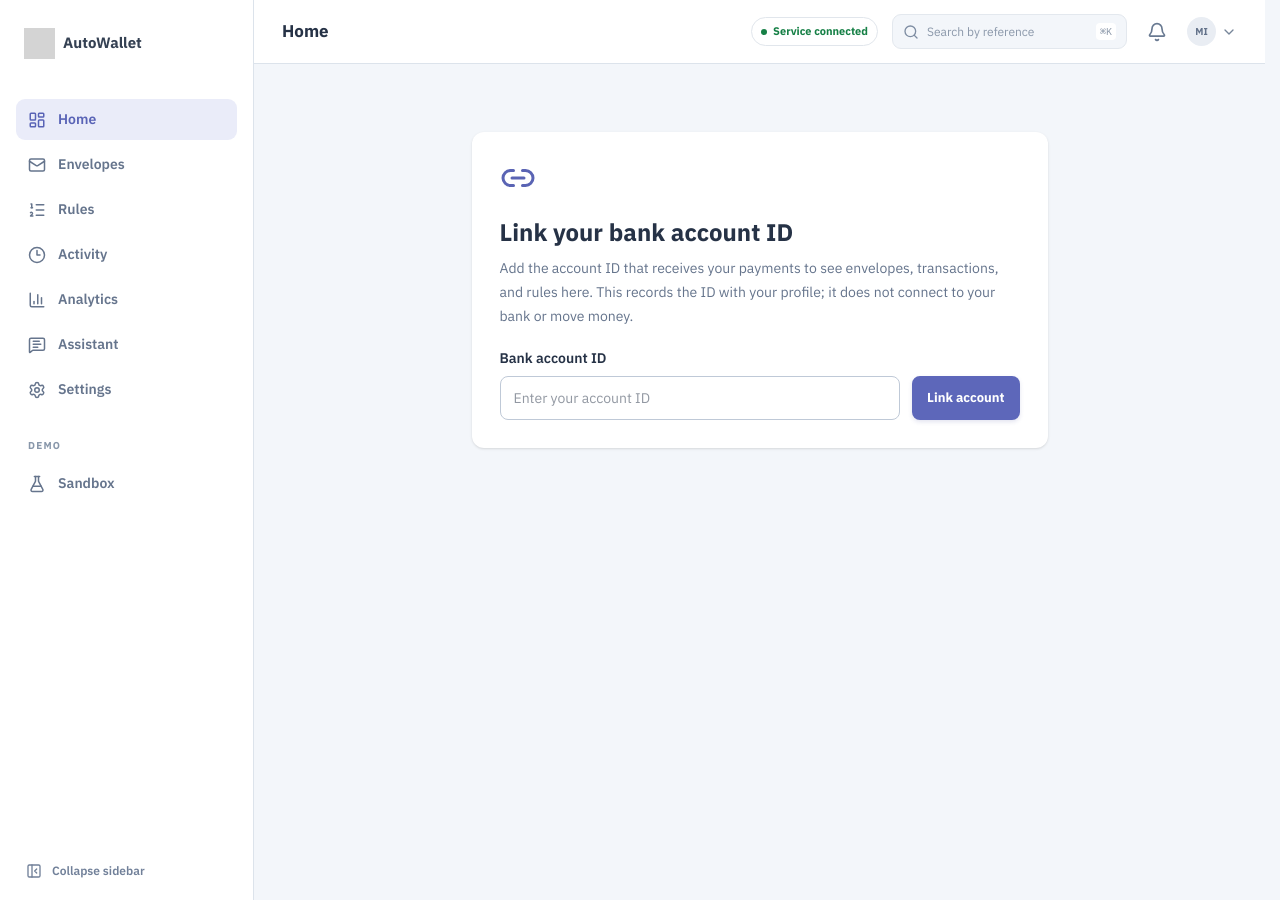
Scenario: DashboardPage › lets an unlinked account link an ID before loading the dashboard data
The image size is (1280, 900).
Check: the heading "Link your bank account ID" is shown, box left=500, top=216, right=793, bottom=248
Type "1234567890123" into the field labelled "Bank account ID" at (700, 398), box left=500, top=376, right=900, bottom=420
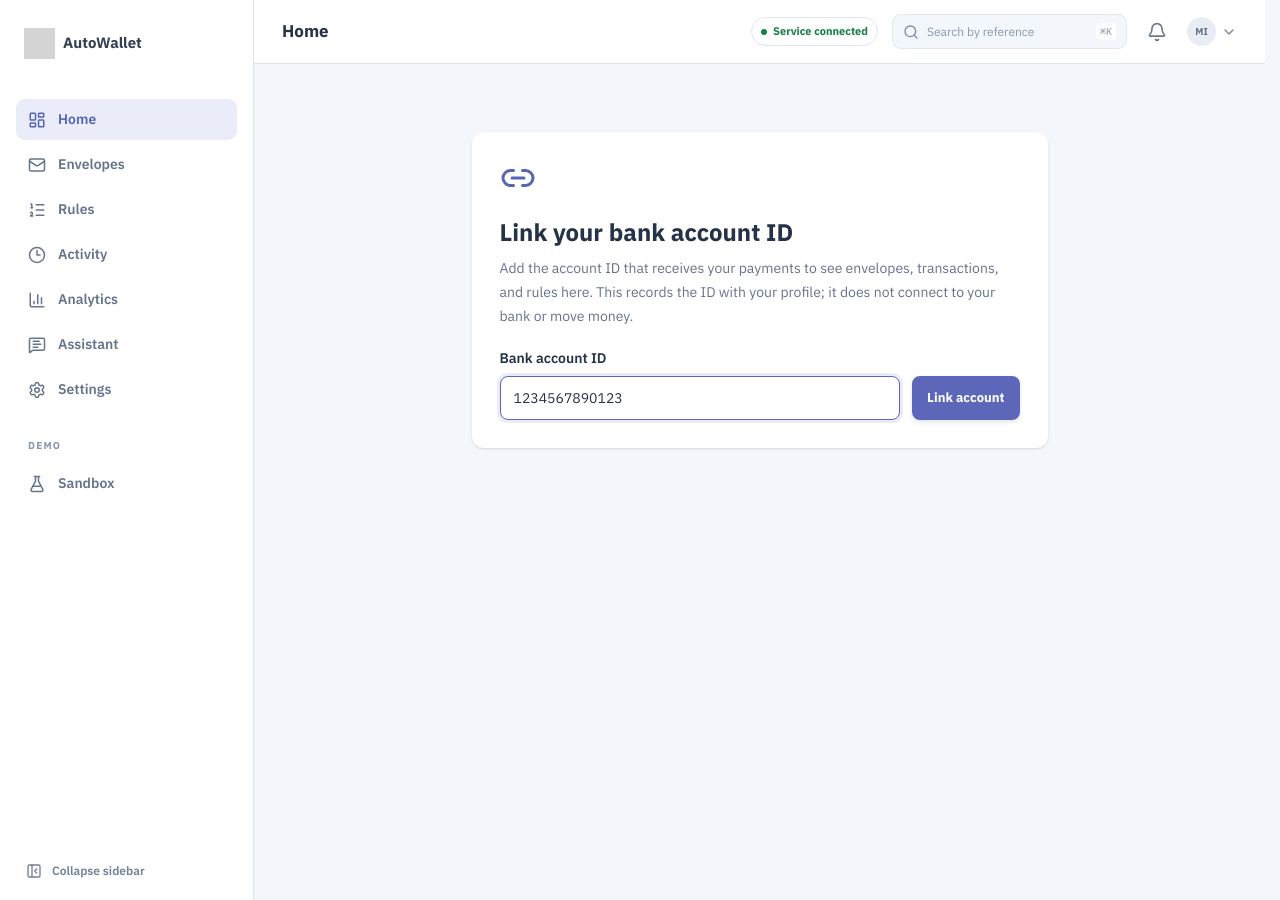
Click the button "Link account" at (966, 398), box left=912, top=376, right=1020, bottom=420
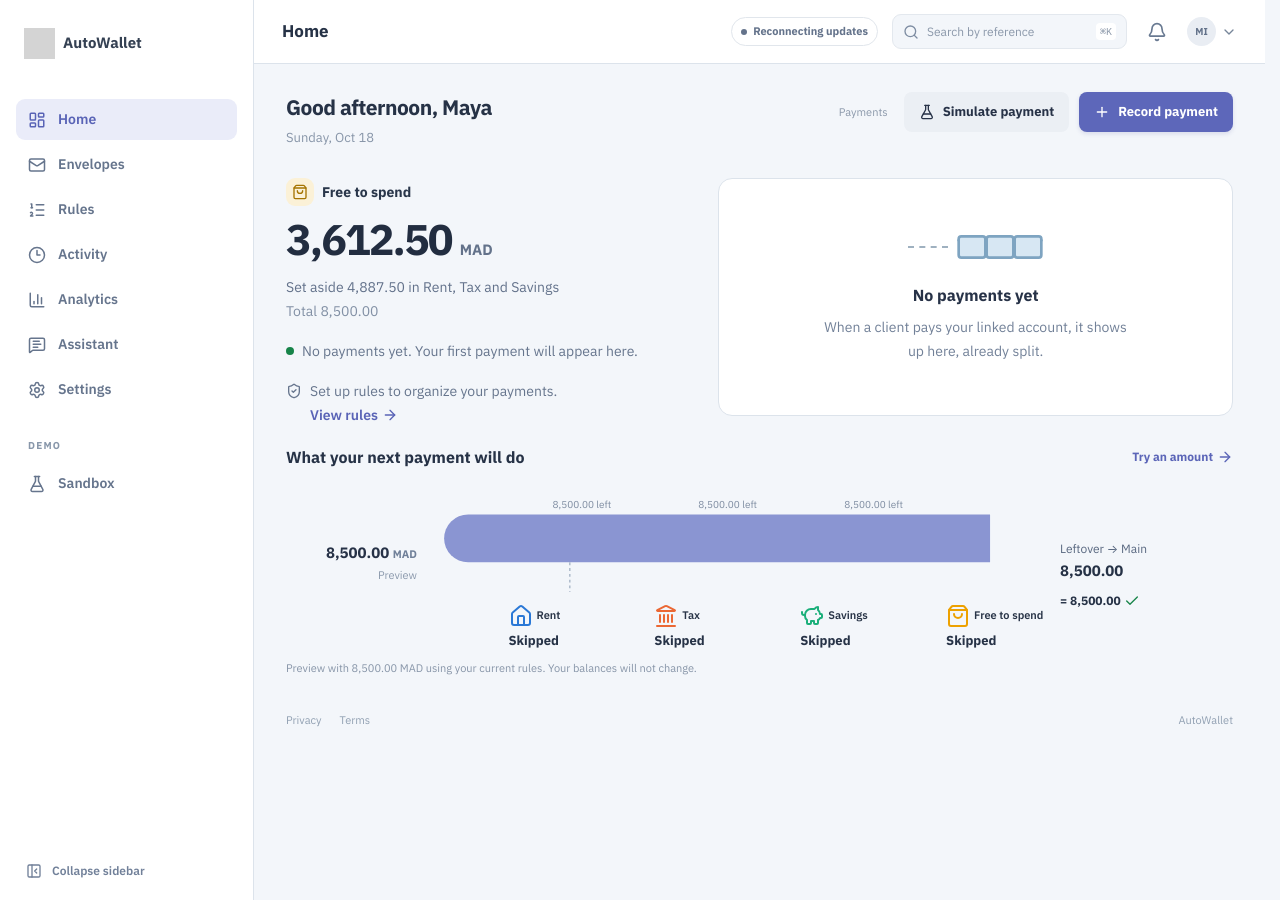
Check: the heading "Free to spend" is shown, box left=322, top=182, right=411, bottom=202
Check: the heading "No payments yet" is shown, box left=913, top=283, right=1039, bottom=307
Check: the heading "What your next payment will do" is shown, box left=286, top=445, right=524, bottom=469
